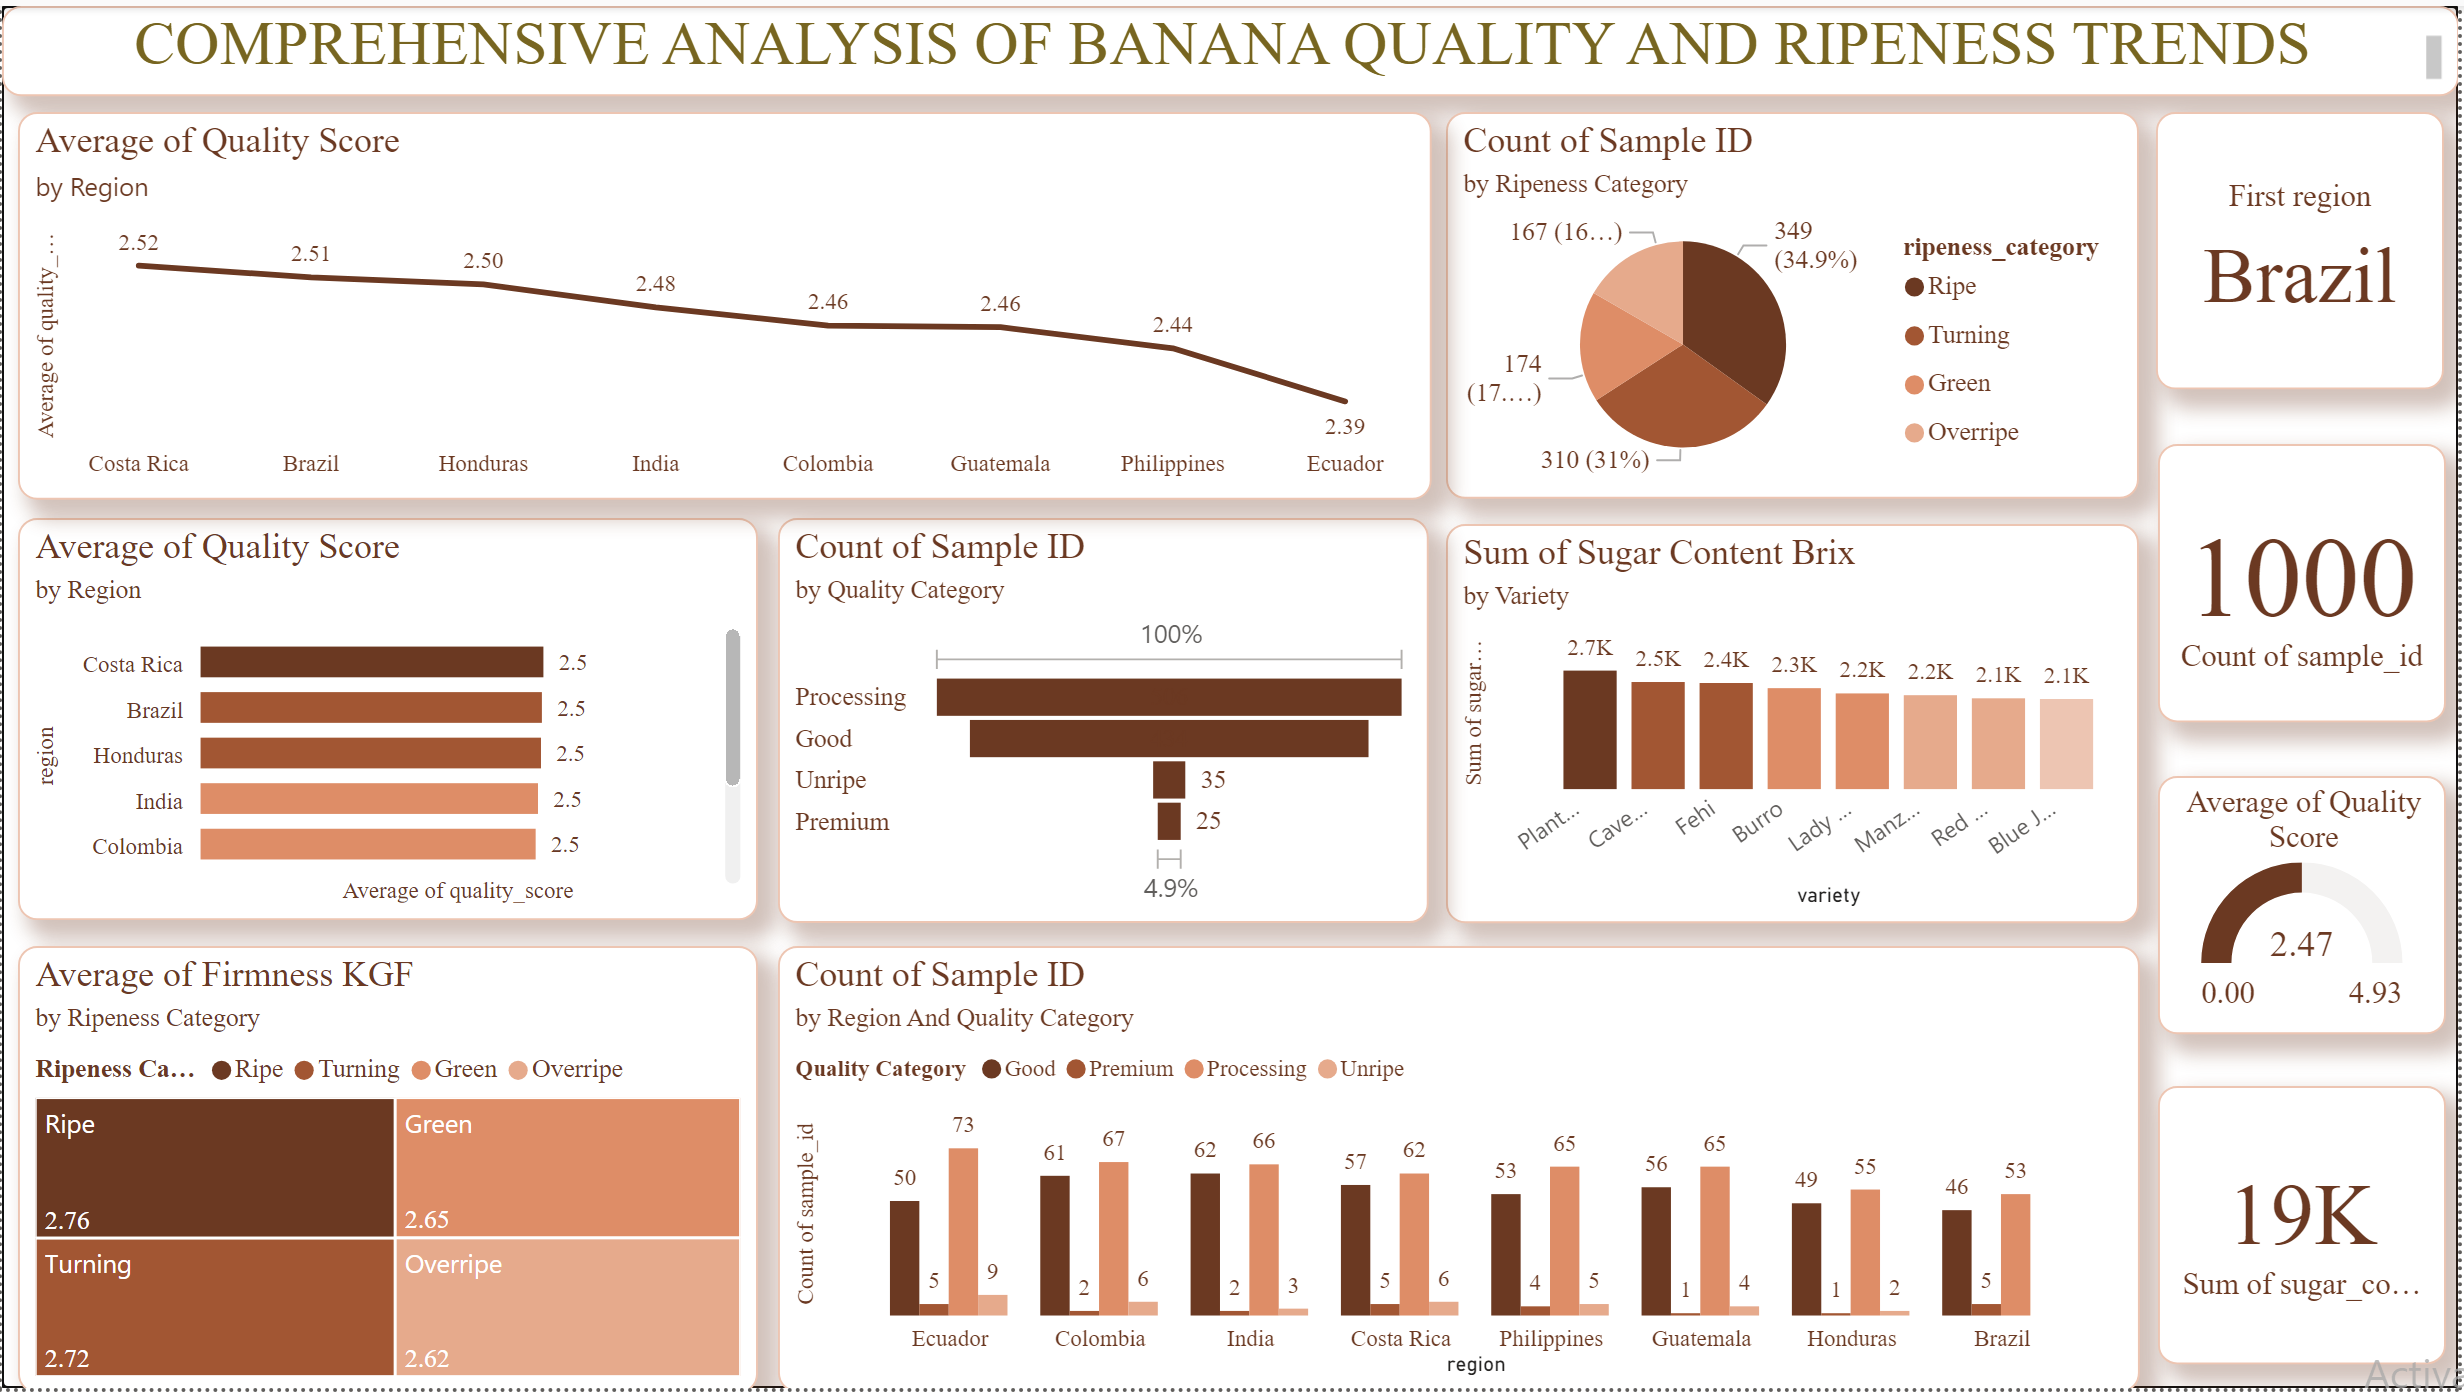

What the dashboard file says about the page in this screenshot:
{"tool":"powerbi","page":{"name":"Page 1","canvas":[1280,720],"ordinal":0},"visuals":[{"type":"barChart","title":"Average of Quality Score","fields":{"Category":["banana_quality_dataset.region"],"Y":["Avg(banana_quality_dataset.quality_score)"]},"box":[8.3,266.5,385.4,209.4],"z":0},{"type":"textbox","box":[0,0,1280,47],"z":1000},{"type":"pieChart","title":"Count of Sample ID ","fields":{"Category":["banana_quality_dataset.ripeness_category"],"Y":["CountNonNull(banana_quality_dataset.sample_id)"]},"box":[752.3,55.3,361,201.7],"z":2000},{"type":"columnChart","title":"Sum of Sugar Content Brix","fields":{"Category":["banana_quality_dataset.variety"],"Y":["Sum(banana_quality_dataset.sugar_content_brix)"]},"box":[752.3,269.8,361,208.1],"z":3000},{"type":"treemap","title":"Average of Firmness KGF","fields":{"Group":["banana_quality_dataset.ripeness_category"],"Values":["Avg(banana_quality_dataset.firmness_kgf)"]},"box":[8.3,490.1,385.4,233.2],"z":4000},{"type":"funnel","title":"Count of Sample ID ","fields":{"Category":["banana_quality_dataset.quality_category"],"Y":["CountNonNull(banana_quality_dataset.sample_id)"]},"box":[404.3,267.1,338.9,210.9],"z":5000},{"type":"lineChart","title":"Average of Quality Score","fields":{"Category":["banana_quality_dataset.region"],"Y":["Avg(banana_quality_dataset.quality_score)"]},"box":[8.3,54.7,736.4,202.2],"z":6000},{"type":"clusteredColumnChart","title":"Count of Sample ID ","fields":{"Category":["banana_quality_dataset.region"],"Series":["banana_quality_dataset.quality_category"],"Y":["CountNonNull(banana_quality_dataset.sample_id)"]},"box":[403.9,490.2,709.5,232.5],"z":7000},{"type":"cardVisual","fields":{"Data":["Min(banana_quality_dataset.region)"]},"box":[1122.5,55.3,150.1,144.6],"z":8000},{"type":"card","fields":{"Values":["CountNonNull(banana_quality_dataset.sample_id)"]},"box":[1123,228.4,149.9,145.1],"z":9000},{"type":"gauge","title":"Average of Quality Score","fields":{"Y":["Avg(banana_quality_dataset.quality_score)"]},"box":[1123,400.9,149.9,134.4],"z":10000},{"type":"card","fields":{"Values":["Sum(banana_quality_dataset.sugar_content_brix)"]},"box":[1123,562.7,149.9,145.1],"z":11000}]}

Visuals, with their boxes in screenshot pixels (x1, y1, x2, y2), scaled from the page's 1280x720 canvas onto the 2464x1396 screenshot:
"Average of Quality Score" barChart: pyautogui.locateOnScreen(16, 517, 758, 923)
textbox: pyautogui.locateOnScreen(0, 0, 2463, 91)
"Count of Sample ID " pieChart: pyautogui.locateOnScreen(1448, 107, 2143, 498)
"Sum of Sugar Content Brix" columnChart: pyautogui.locateOnScreen(1448, 523, 2143, 927)
"Average of Firmness KGF" treemap: pyautogui.locateOnScreen(16, 950, 758, 1395)
"Count of Sample ID " funnel: pyautogui.locateOnScreen(778, 518, 1431, 927)
"Average of Quality Score" lineChart: pyautogui.locateOnScreen(16, 106, 1434, 498)
"Count of Sample ID " clusteredColumnChart: pyautogui.locateOnScreen(778, 950, 2143, 1395)
cardVisual - Min(banana_quality_dataset.region): pyautogui.locateOnScreen(2161, 107, 2450, 388)
card - CountNonNull(banana_quality_dataset.sample_id): pyautogui.locateOnScreen(2162, 443, 2450, 724)
"Average of Quality Score" gauge: pyautogui.locateOnScreen(2162, 777, 2450, 1038)
card - Sum(banana_quality_dataset.sugar_content_brix): pyautogui.locateOnScreen(2162, 1091, 2450, 1372)
